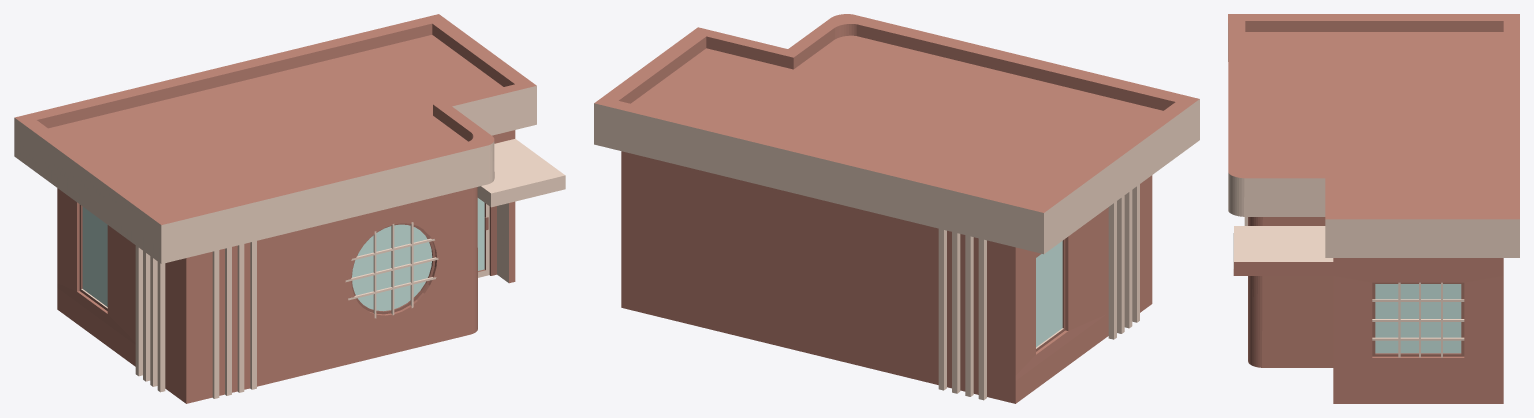
File: Casa7.fbx
3 renders of one model, left to right at view 1: azimuth 30°, elevation 25°; view 2: azimuth 150°, elevation 25°; view 3: azimuth 270°, elevation 25°, orthographic. The views are drawn at different scales.
Visible parts, largest first — view 1: coffe_shop; view 2: coffe_shop; view 3: coffe_shop.
Part boxes in pixels (left/top/right/bottom): coffe_shop: left=14, top=14, right=565, bottom=403; coffe_shop: left=594, top=14, right=1199, bottom=403; coffe_shop: left=1228, top=14, right=1519, bottom=403.
Size of the model in its own units: 990 by 434 by 594.
